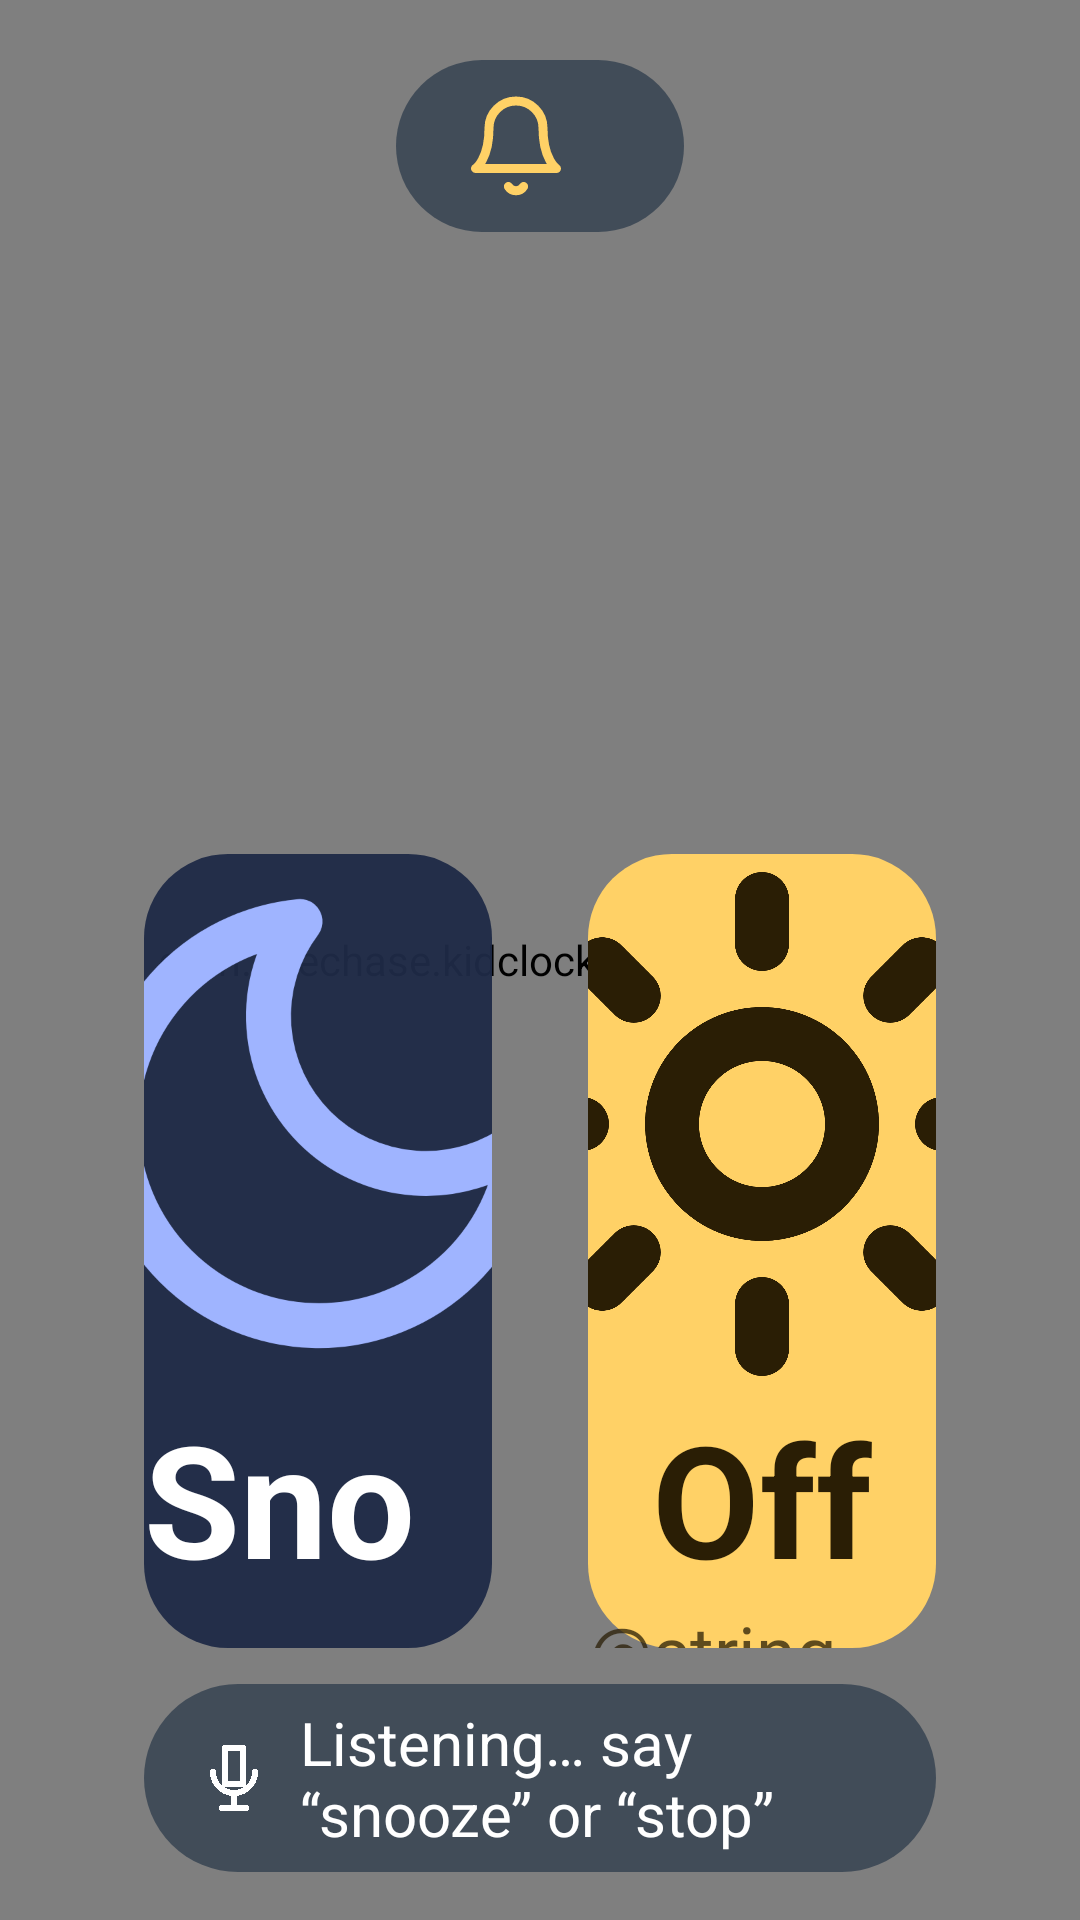

Icons on this 1080x1920 Android screen, each with the point to tap as [x,y]:
bell: [516,146]
